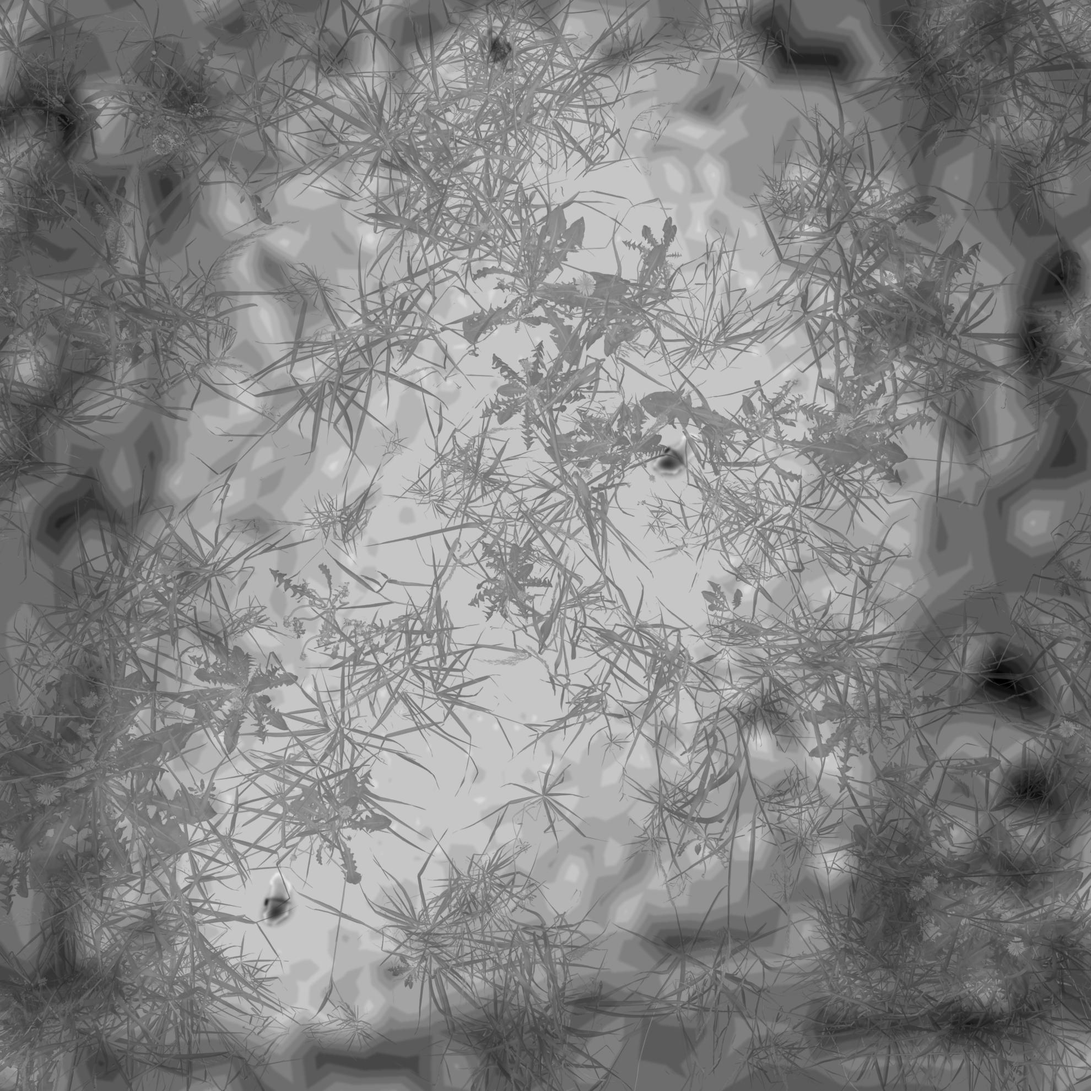landmine: (257, 869, 300, 931), (651, 429, 704, 478)
